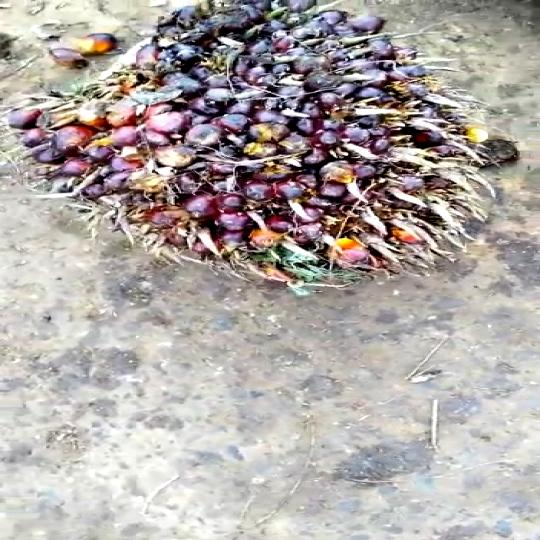masak: (10, 0, 532, 294)
